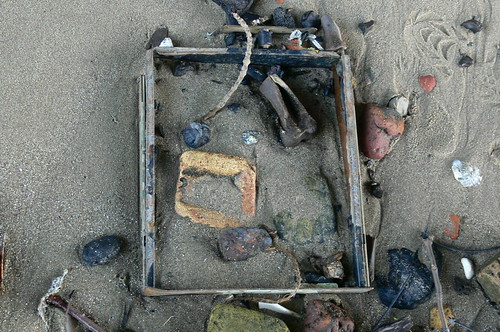trash: (24, 13, 500, 332)
